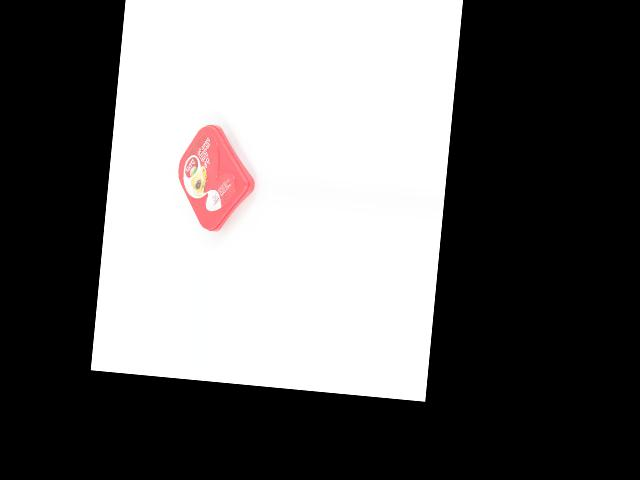cheese: (172, 121, 260, 235)
